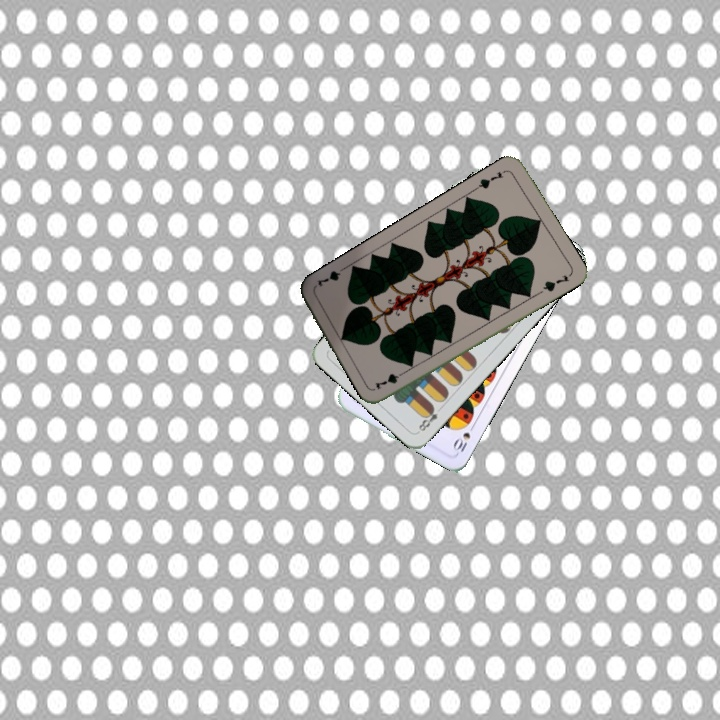E8: (414, 402, 445, 435)
G7: (372, 366, 410, 392), (472, 166, 509, 192)
S10: (449, 419, 478, 455)
